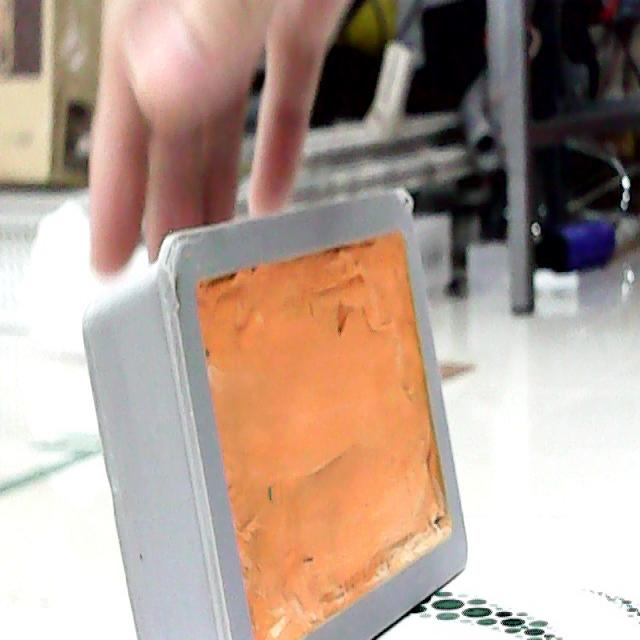block: (86, 173, 470, 640)
